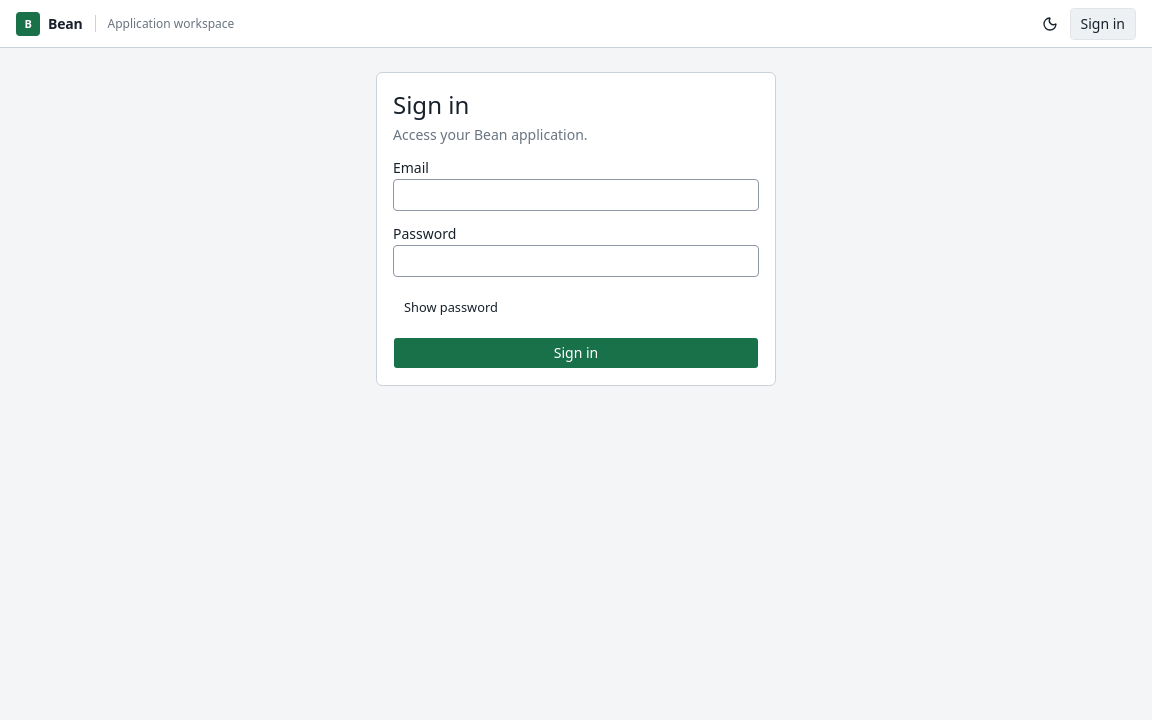
App › switches the semantic shell between designed light and dark themes
Click the button named "Use dark theme" at coordinates (1050, 24), box [1034,8,1066,40]
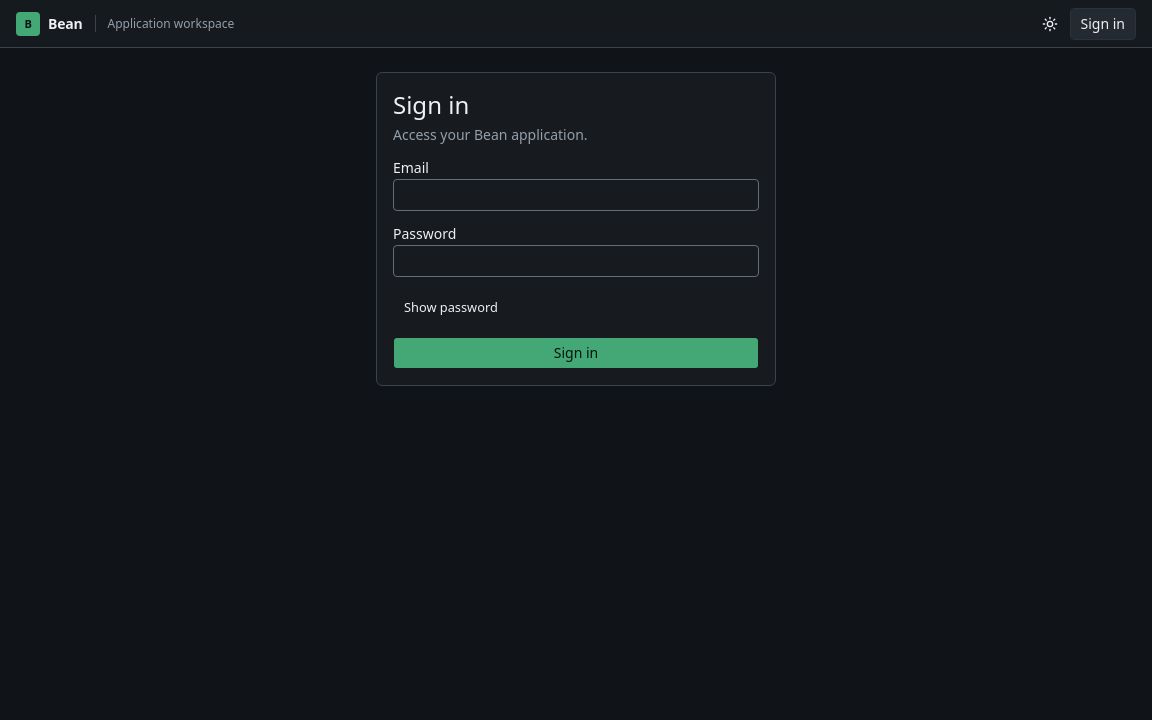
Now the button named "Use light theme" is shown, box [1034,8,1066,40]
